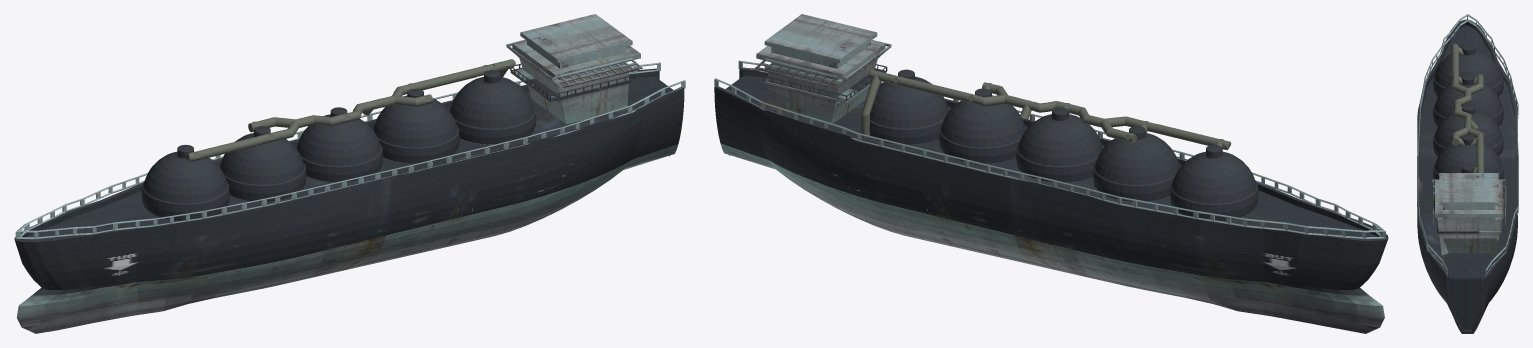
Rendered from TankerWithGastEX.obj.
3 views of the same model, side by side, from view 1: azimuth 30°, elevation 25°; view 2: azimuth 150°, elevation 25°; view 3: azimuth 270°, elevation 25° (orthographic). The views are drawn at different scales.
Visible parts, largest first — view 1: Sphere.003_Ship, Sphere.003_Pipe_Material; view 2: Sphere.003_Ship, Sphere.003_Pipe_Material; view 3: Sphere.003_Ship, Sphere.003_Pipe_Material.
Boxes of the visible parts, x1,y1,x2,y2 form: Sphere.003_Ship: [14, 14, 685, 333]; Sphere.003_Pipe_Material: [185, 59, 515, 161]; Sphere.003_Ship: [714, 14, 1388, 333]; Sphere.003_Pipe_Material: [861, 69, 1231, 150]; Sphere.003_Ship: [1417, 14, 1518, 333]; Sphere.003_Pipe_Material: [1451, 43, 1503, 218].
Size of the model in its own units: 61.73 by 15.25 by 10.31.
3 materials, 2 textured.
